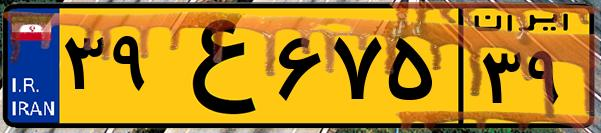3: (57, 26, 110, 100), (475, 38, 525, 113)
5: (385, 28, 445, 110)
6: (270, 28, 330, 110)
7: (330, 28, 385, 110)
9: (525, 38, 570, 115), (110, 28, 158, 98)
ع: (158, 12, 270, 120)
